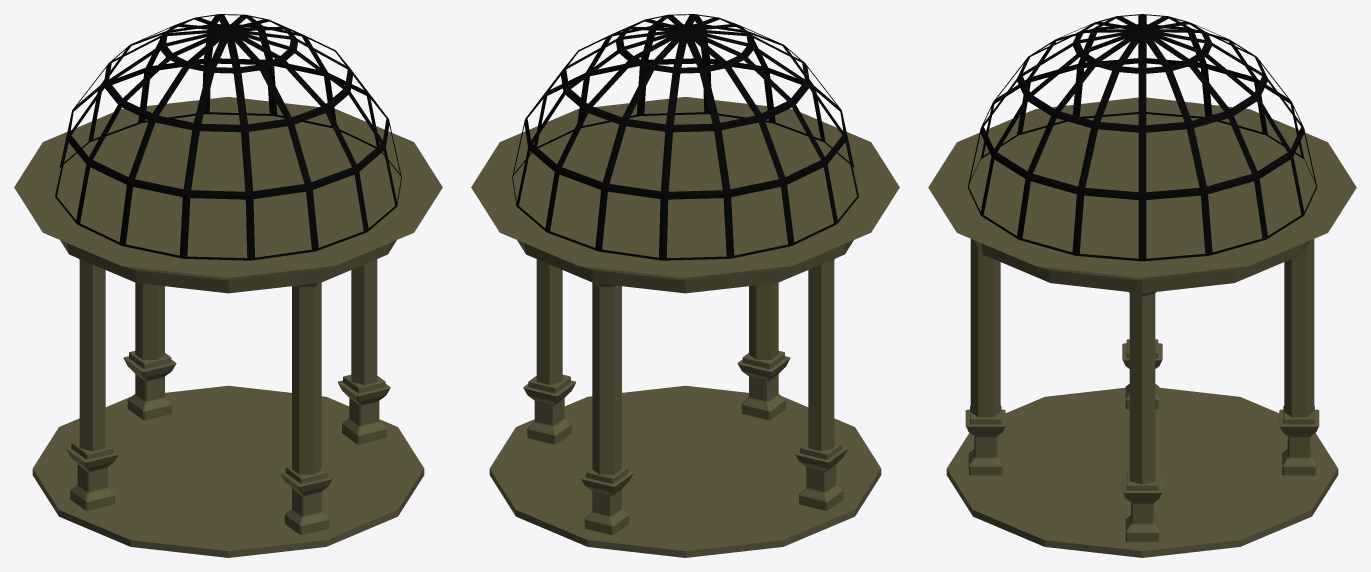
The model's file is Gazebo1.glb.
The picture shows the model from 3 angles, left to right: view 1: azimuth 30°, elevation 25°; view 2: azimuth 150°, elevation 25°; view 3: azimuth 270°, elevation 25°; orthographic projection.
Parts seen in each view (by area): view 1: Gazebo1; view 2: Gazebo1; view 3: Gazebo1.
Boxes of the visible parts, x1,y1,x2,y2 form: Gazebo1: (14, 14, 442, 557); Gazebo1: (471, 14, 899, 557); Gazebo1: (928, 14, 1356, 557).
Bounding box in the file's own units: 5.81 × 6.65 × 5.81.
